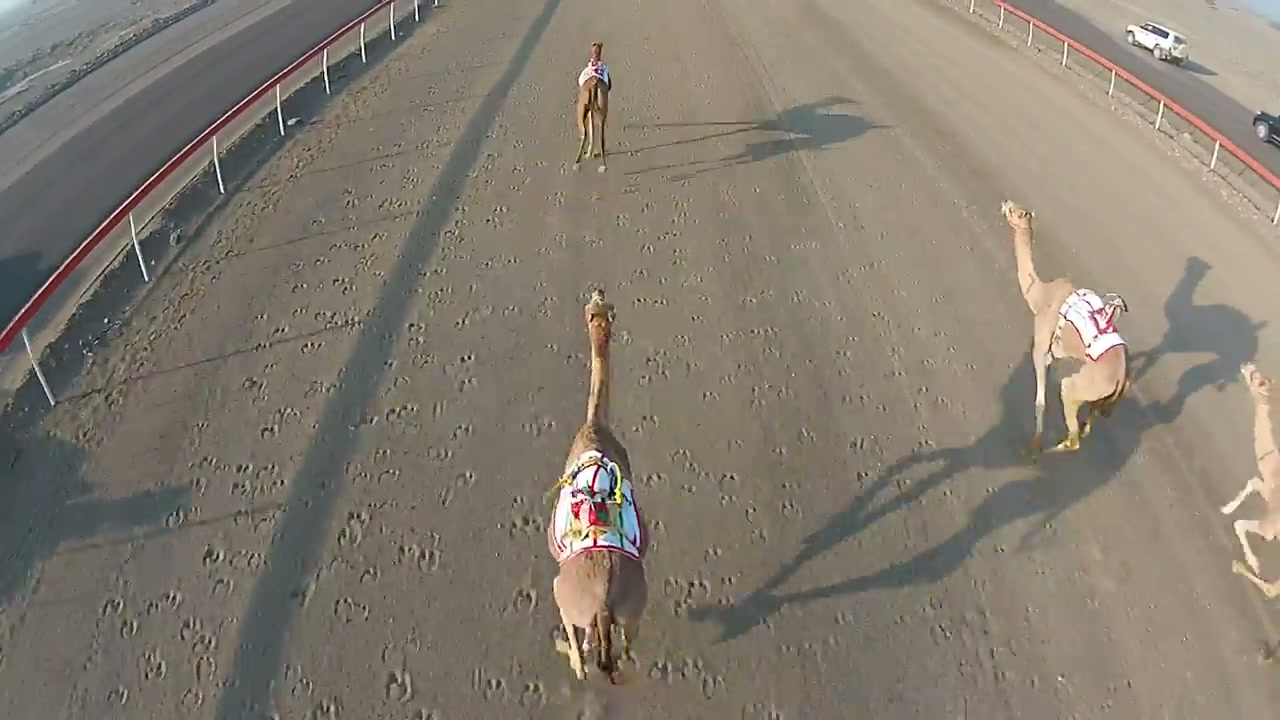animal_footprint: (62, 135, 504, 698), (777, 218, 1033, 677), (562, 157, 748, 689)
